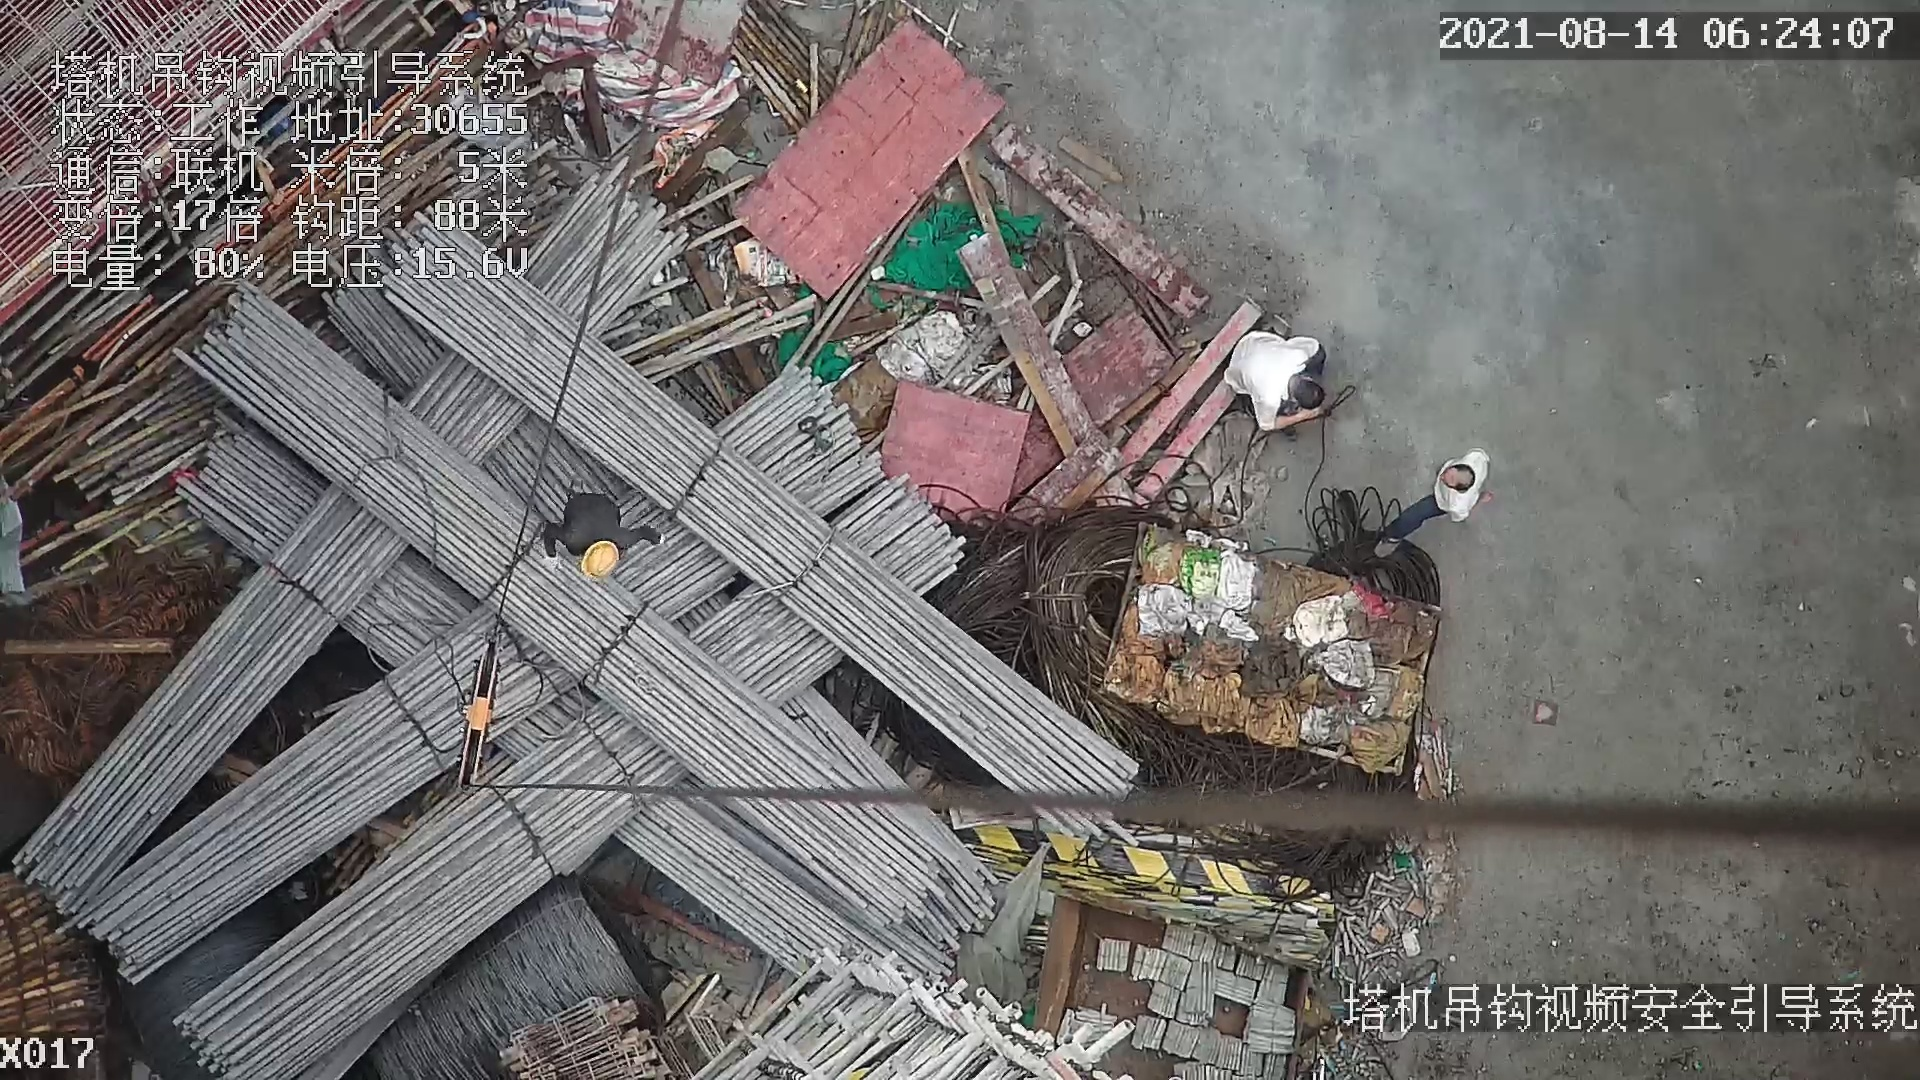helmet: (581, 540, 619, 578)
hook: (446, 635, 517, 780)
person: (1378, 433, 1503, 556), (1217, 327, 1340, 432), (540, 492, 664, 578)
rebar: (178, 280, 942, 924), (385, 281, 1142, 850), (168, 700, 693, 1080), (73, 601, 583, 987), (20, 487, 405, 912)
wood: (1, 873, 106, 1033)
